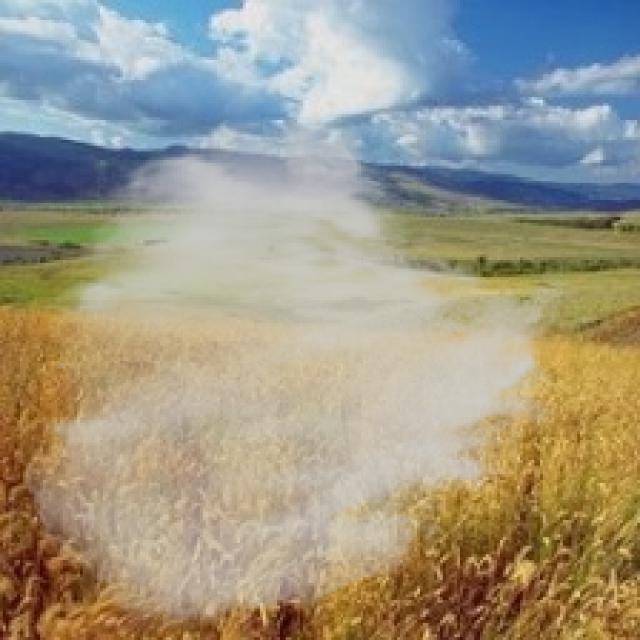smoke: (20, 115, 577, 634)
